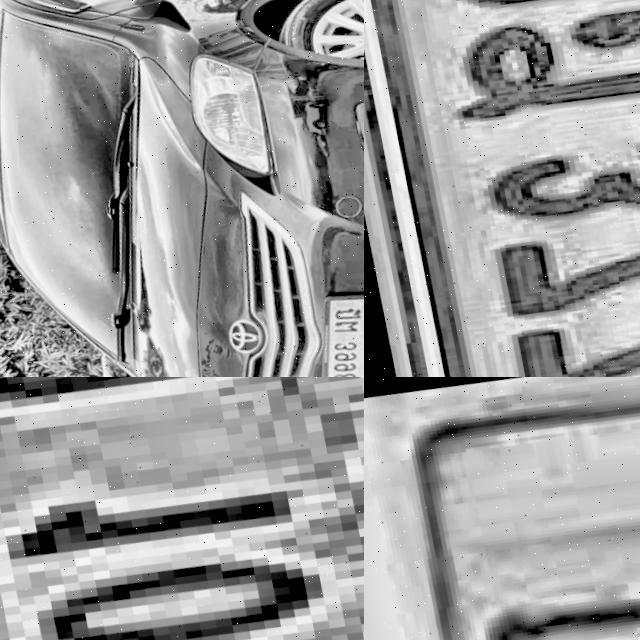license-plate: (364, 0, 640, 377), (0, 377, 364, 640), (364, 377, 640, 640), (294, 268, 364, 377)
